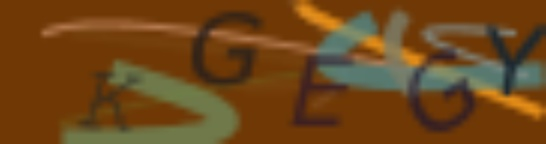E: (286, 50, 355, 132)
G: (402, 48, 477, 134), (190, 6, 264, 88)
K: (75, 67, 143, 135)
Y: (483, 17, 546, 98)
